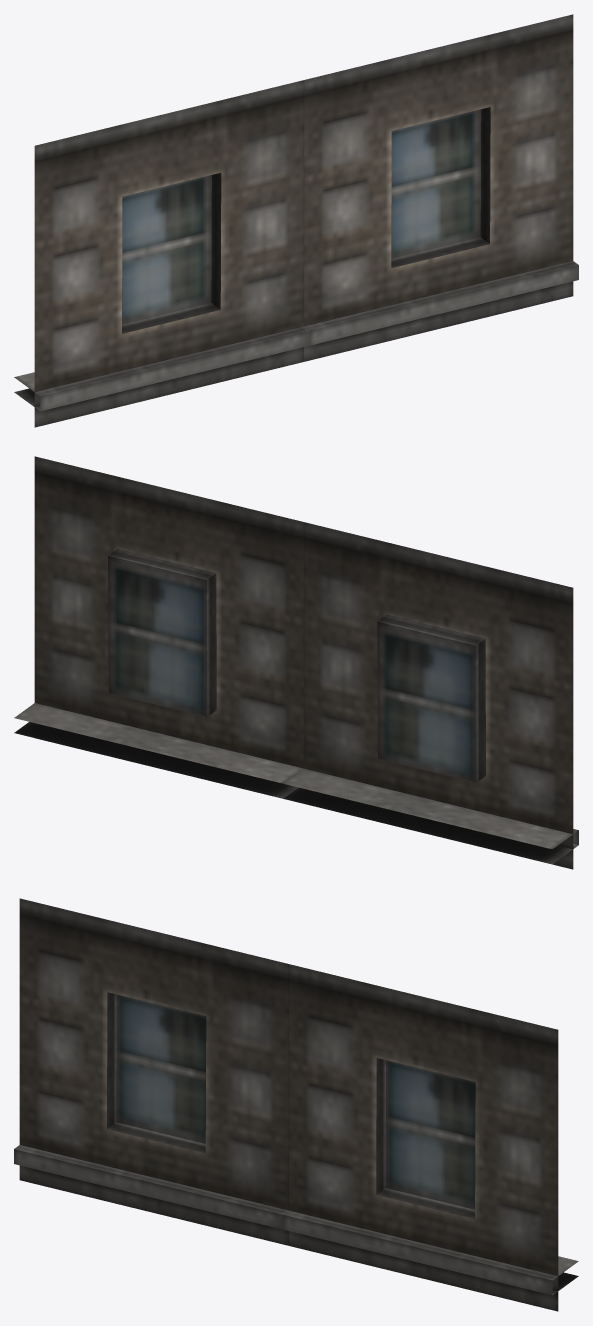
File: B1_MiddleFloorWindow2x.FBX
The picture shows the model from 3 angles, top to bottom: view 1: azimuth 30°, elevation 25°; view 2: azimuth 150°, elevation 25°; view 3: azimuth 330°, elevation 25°; orthographic projection.
Parts seen in each view (by area): view 1: B1_MiddleFloorWindow2x; view 2: B1_MiddleFloorWindow2x; view 3: B1_MiddleFloorWindow2x.
Boxes of the visible parts, bbox=[...] form: B1_MiddleFloorWindow2x: bbox=[14, 14, 578, 427]; B1_MiddleFloorWindow2x: bbox=[14, 456, 578, 869]; B1_MiddleFloorWindow2x: bbox=[14, 898, 578, 1311].
Size of the model in its own units: 8 by 4 by 0.6788.
